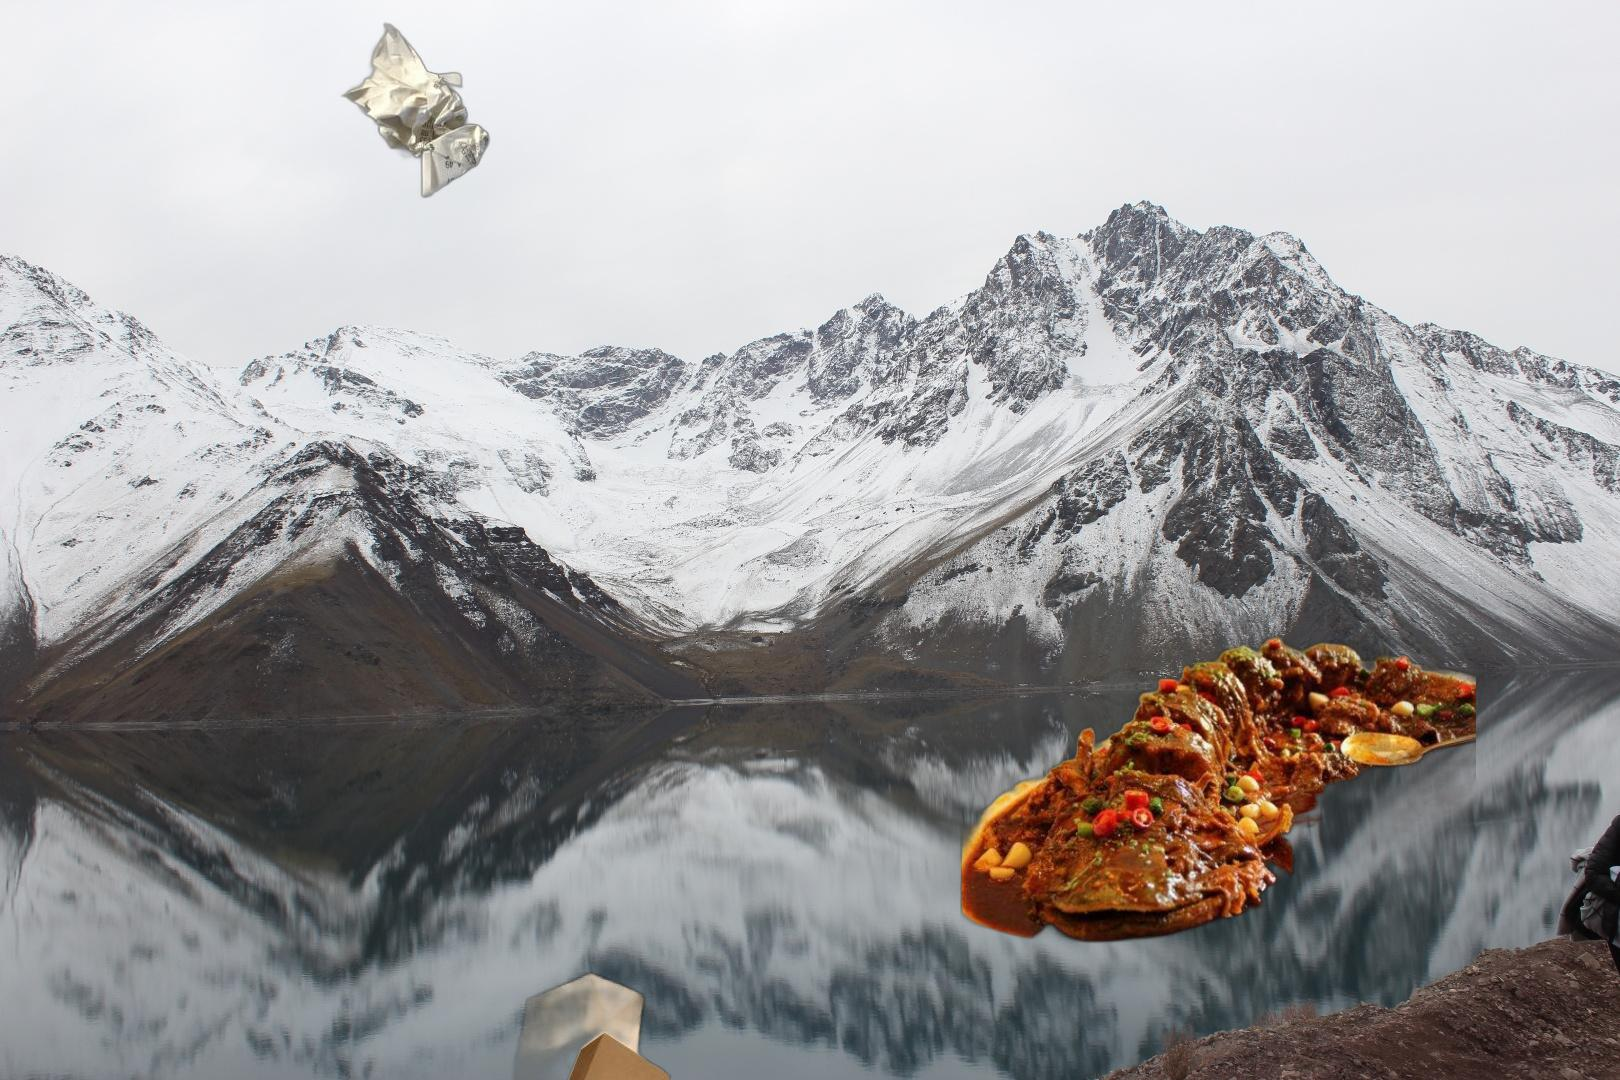biological: (959, 624, 1477, 946)
paper: (337, 20, 494, 201)
paper-bag: (491, 969, 673, 1080)
